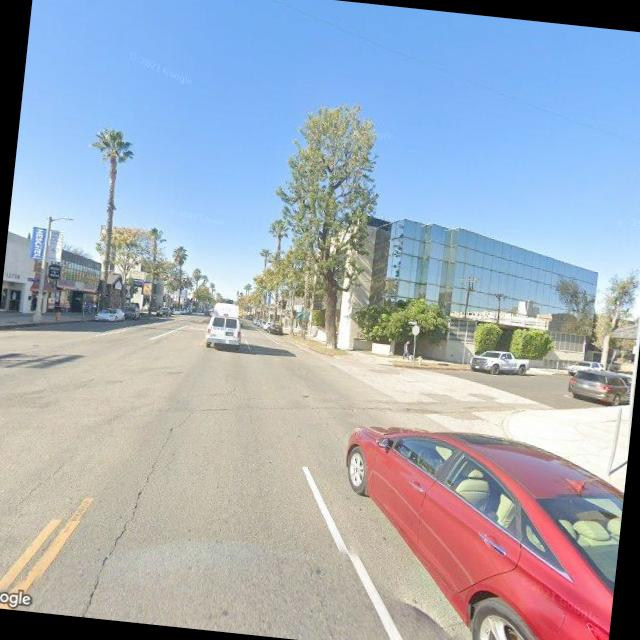pothole: (73, 398, 191, 623), (12, 453, 69, 512)
